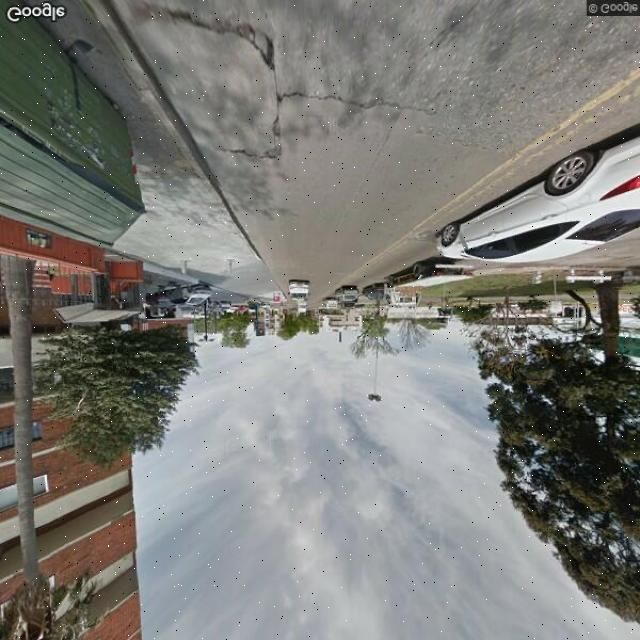garbage container: (2, 1, 161, 263)
